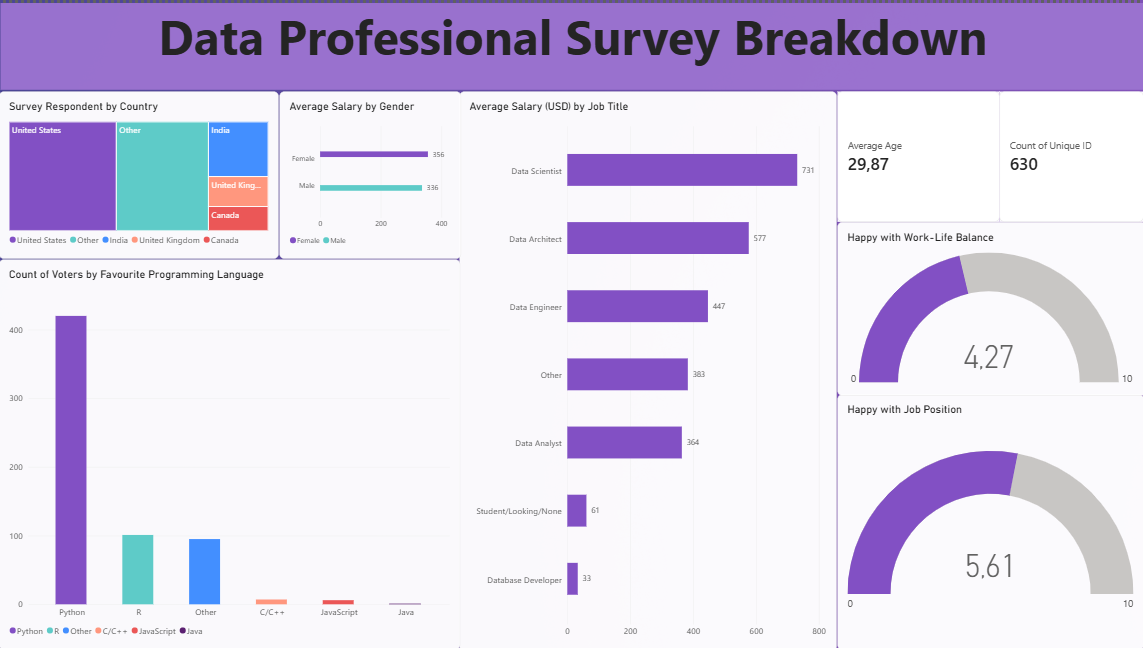

Layout of this report page (visuals, bound fields, positions):
{"tool":"powerbi","page":{"name":"Page 1","canvas":[1920,1080],"ordinal":0},"visuals":[{"type":"textbox","box":[11.3,0,1907.7,144.6],"z":0},{"type":"cardVisual","fields":{"Data":["CountNonNull(Data Professional Survey.Unique ID)"]},"box":[1677.5,147.5,240,217.5],"z":1},{"type":"cardVisual","fields":{"Data":["Avg(Data Professional Survey.Q10 - Current Age)"]},"box":[1407.5,147.5,270,217.5],"z":2},{"type":"clusteredBarChart","title":"Average Salary (USD) by Job Title","fields":{"Category":["Data Professional Survey.Q1 - Which Title Best Fits your Current Role?"],"Y":["Avg(Data Professional Survey.Average Salary)"]},"box":[778.6,146.4,628.6,932.1],"z":3},{"type":"columnChart","title":"Count of Voters  by Favourite Programming Language","fields":{"Category":["Data Professional Survey.Q5 - Favorite Programming Language"],"Series":["Data Professional Survey.Q5 - Favorite Programming Language"],"Y":["CountNonNull(Data Professional Survey.Unique ID)"]},"box":[10.5,426.3,768.4,650],"z":4},{"type":"treemap","title":"Survey Respondent by Country","fields":{"Group":["Data Professional Survey.Q11 - Which Country do you live in?"],"Values":["CountNonNull(Data Professional Survey.Q11 - Which Country do you live in?)"]},"box":[10.5,147.4,465.8,278.9],"z":5},{"type":"gauge","title":"Happy with Job Position ","fields":{"MaxValue":["Max(Data Professional Survey.Q6 - How Happy are you in your Current Position with the following? (Learning New Things))"],"MinValue":["Min(Data Professional Survey.Q6 - How Happy are you in your Current Position with the following? (Learning New Things))"],"Y":["Avg(Data Professional Survey.Q6 - How Happy are you in your Current Position with the following? (Learning New Things))"]},"box":[1407.1,653.6,510.7,425],"z":6},{"type":"gauge","title":"Happy with Work-Life Balance","fields":{"MaxValue":["Max(Data Professional Survey.Q6 - How Happy are you in your Current Position with the following? (Salary))2"],"MinValue":["Min(Data Professional Survey.Q6 - How Happy are you in your Current Position with the following? (Salary))1"],"Y":["Avg(Data Professional Survey.Q6 - How Happy are you in your Current Position with the following? (Salary))"]},"box":[1407.1,364.3,514.3,289.3],"z":7},{"type":"clusteredBarChart","title":" Average Salary by Gender","fields":{"Category":["Data Professional Survey.Q9 - Male/Female?"],"Series":["Data Professional Survey.Q9 - Male/Female?"],"Y":["Avg(Data Professional Survey.Average Salary)"]},"box":[476.3,147.4,302.6,278.9],"z":8}]}

Visuals, with their boxes in screenshot pixels (x1, y1, x2, y2), scaled from the page's 1920x1080 canvas onto the 1143x648 screenshot:
textbox: BBox(7, 0, 1142, 87)
cardVisual - CountNonNull(Data Professional Survey.Unique ID): BBox(999, 88, 1142, 219)
cardVisual - Avg(Data Professional Survey.Q10 - Current Age): BBox(838, 88, 999, 219)
"Average Salary (USD) by Job Title" clusteredBarChart: BBox(464, 88, 838, 647)
"Count of Voters  by Favourite Programming Language" columnChart: BBox(6, 256, 464, 646)
"Survey Respondent by Country" treemap: BBox(6, 88, 284, 256)
"Happy with Job Position " gauge: BBox(838, 392, 1142, 647)
"Happy with Work-Life Balance" gauge: BBox(838, 219, 1142, 392)
" Average Salary by Gender" clusteredBarChart: BBox(284, 88, 464, 256)
